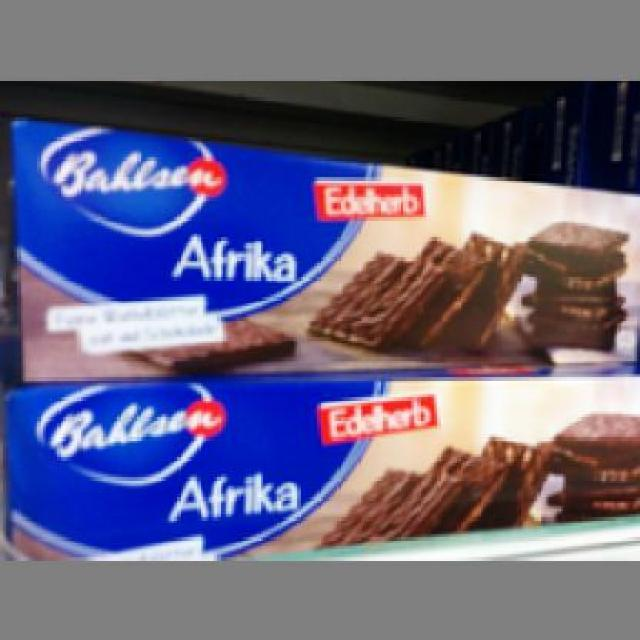Chocolate: (2, 111, 638, 378), (0, 380, 637, 557)
